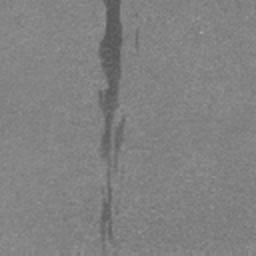Red iron sheet: (96, 0, 125, 251), (133, 29, 141, 50)
